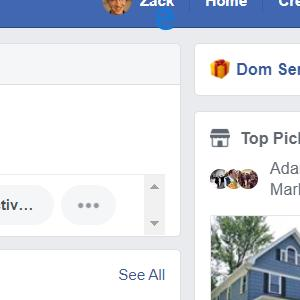edge: (154, 8, 176, 31)
